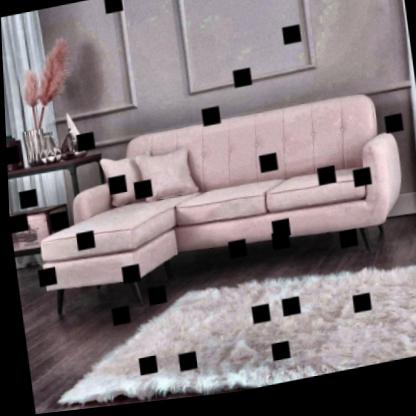Sofa: (41, 95, 405, 287)
